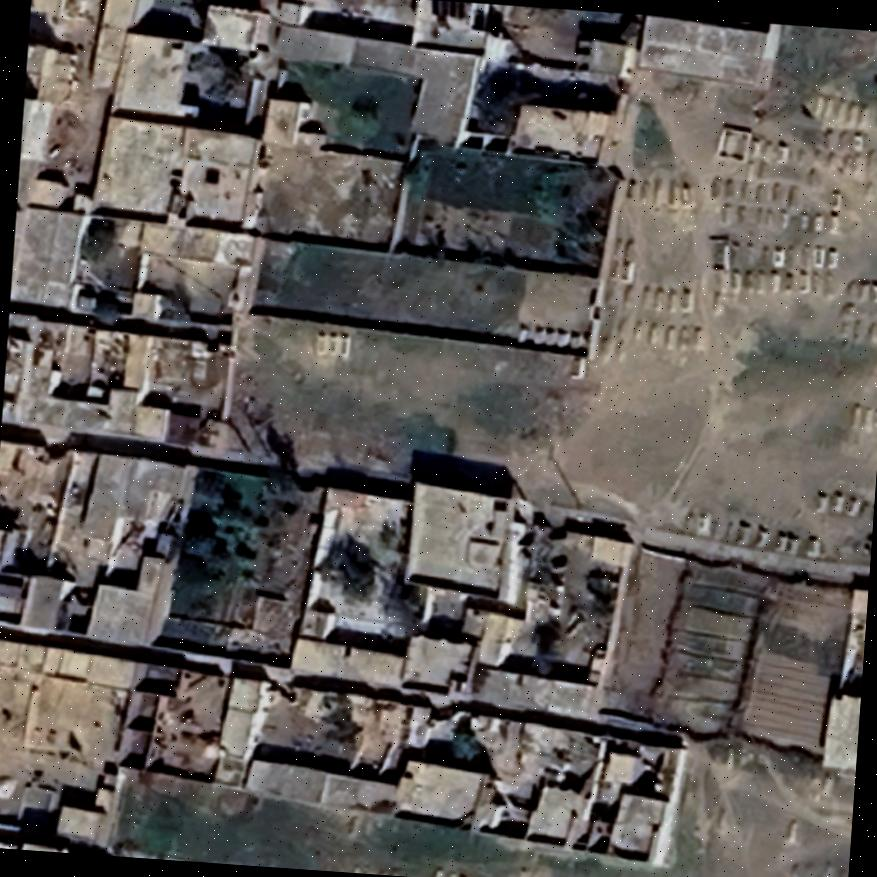Solarpanel: (425, 0, 471, 23)
